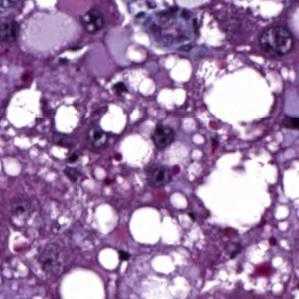ballooning: (190, 141, 283, 240)
